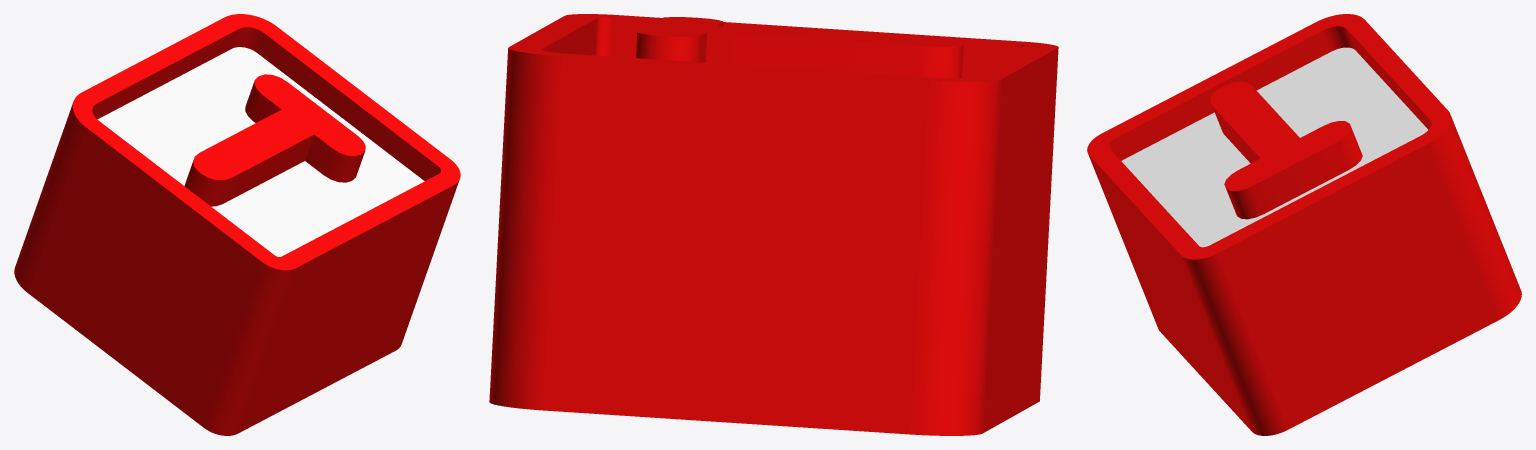
The model's file is Playblock_red.fbx.
3 views of the same model, side by side, from view 1: azimuth 30°, elevation 25°; view 2: azimuth 150°, elevation 25°; view 3: azimuth 270°, elevation 25° (orthographic). The views are drawn at different scales.
Parts seen in each view (by area): view 1: Model, T1; view 2: Model, T1; view 3: Model, T1.
Boxes of the visible parts, x1=… form: Model: x1=14, y1=14, x2=460, y2=435; T1: x1=184, y1=74, x2=365, y2=206; Model: x1=489, y1=14, x2=1058, y2=435; T1: x1=636, y1=17, x2=963, y2=78; Model: x1=1087, y1=14, x2=1521, y2=435; T1: x1=1210, y1=81, x2=1362, y2=219.
Bounding box in the file's own units: 1364 × 1065 × 1476.
